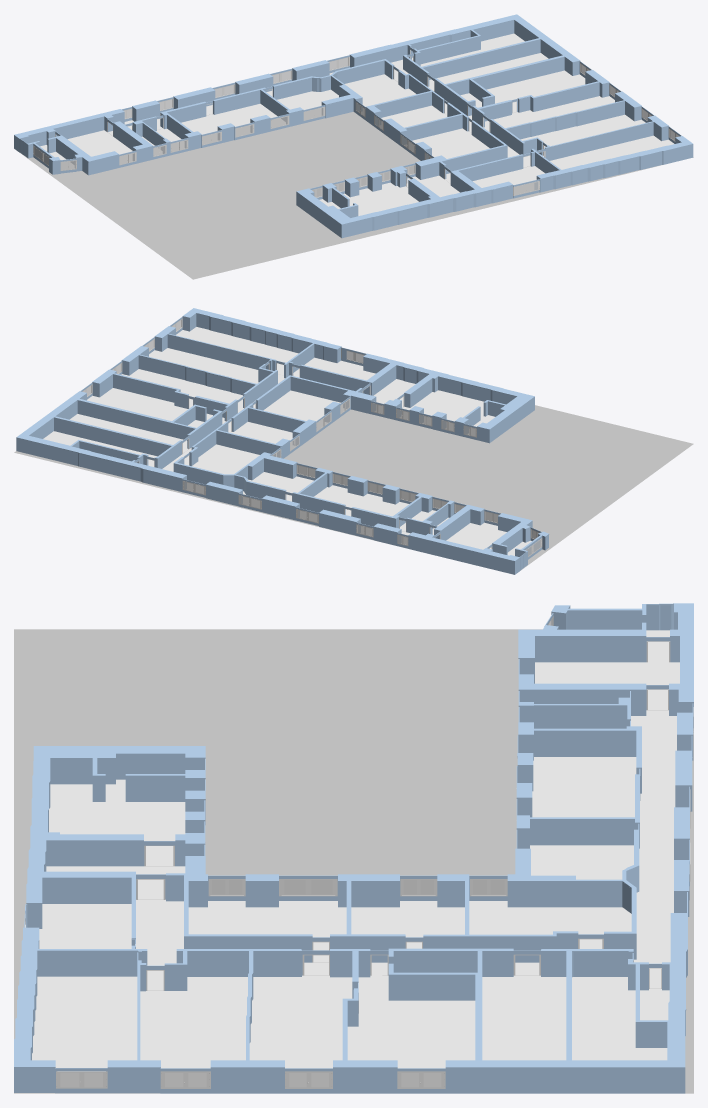
File: 4thfloor.glb
The picture shows the model from 3 angles, top to bottom: view 1: azimuth 30°, elevation 25°; view 2: azimuth 150°, elevation 25°; view 3: azimuth 270°, elevation 25°; orthographic projection. The views are drawn at different scales.
Visible parts, largest first — view 1: ground_1, room_484_2836, wall_178_1066, room_470_2808, room_512_2868, wall_286_1715, room_480_2828, room_482_2832, room_479_2826, room_478_2824, room_477_2822, room_472_2812 (+39 smaller); view 2: ground_1, room_484_2836, room_482_2832, room_480_2828, wall_176_1054, wall_187_1120, wall_12_71, room_479_2826, room_512_2868, room_478_2824, room_477_2822, wall_280_1679 (+41 smaller); view 3: ground_1, room_487_2842, room_480_2828, room_479_2826, room_484_2836, room_477_2822, room_475_2818, room_482_2832, room_470_2808, wall_158_946, room_474_2816, room_478_2824 (+55 smaller).
Boxes of the visible parts, left/top/right/bottom form: ground_1: left=20, top=79, right=693, bottom=279; room_484_2836: left=460, top=70, right=585, bottom=119; wall_178_1066: left=424, top=40, right=540, bottom=79; room_470_2808: left=181, top=103, right=285, bottom=143; room_512_2868: left=337, top=154, right=523, bottom=224; wall_286_1715: left=546, top=122, right=653, bottom=160; room_480_2828: left=550, top=135, right=673, bottom=169; room_482_2832: left=319, top=182, right=418, bottom=215; room_479_2826: left=520, top=114, right=645, bottom=155; room_478_2824: left=404, top=128, right=489, bottom=158; room_477_2822: left=483, top=96, right=614, bottom=131; room_472_2812: left=344, top=74, right=416, bottom=115; ground_1: left=14, top=405, right=693, bottom=570; room_484_2836: left=87, top=388, right=225, bottom=427; room_482_2832: left=400, top=390, right=494, bottom=435; room_480_2828: left=176, top=327, right=298, bottom=375; wall_176_1054: left=77, top=401, right=194, bottom=440; wall_187_1120: left=54, top=418, right=170, bottom=456; wall_12_71: left=408, top=536, right=514, bottom=574; room_479_2826: left=149, top=348, right=258, bottom=383; room_512_2868: left=300, top=353, right=534, bottom=399; room_478_2824: left=263, top=390, right=344, bottom=429; room_477_2822: left=121, top=369, right=243, bottom=412; wall_280_1679: left=167, top=335, right=269, bottom=369; ground_1: left=14, top=629, right=693, bottom=1093; room_487_2842: left=136, top=710, right=676, bottom=990; room_480_2828: left=32, top=976, right=137, bottom=1086; room_479_2826: left=140, top=977, right=247, bottom=1086; room_484_2836: left=347, top=975, right=475, bottom=1086; room_477_2822: left=249, top=975, right=352, bottom=1086; room_475_2818: left=482, top=975, right=566, bottom=1060; room_482_2832: left=49, top=779, right=185, bottom=865; room_470_2808: left=532, top=757, right=636, bottom=817; wall_158_946: left=445, top=1068, right=685, bottom=1093; room_474_2816: left=572, top=977, right=667, bottom=1060; room_478_2824: left=188, top=901, right=346, bottom=961.
Bounding box in the file's own units: 9965 × 262 × 6170.
